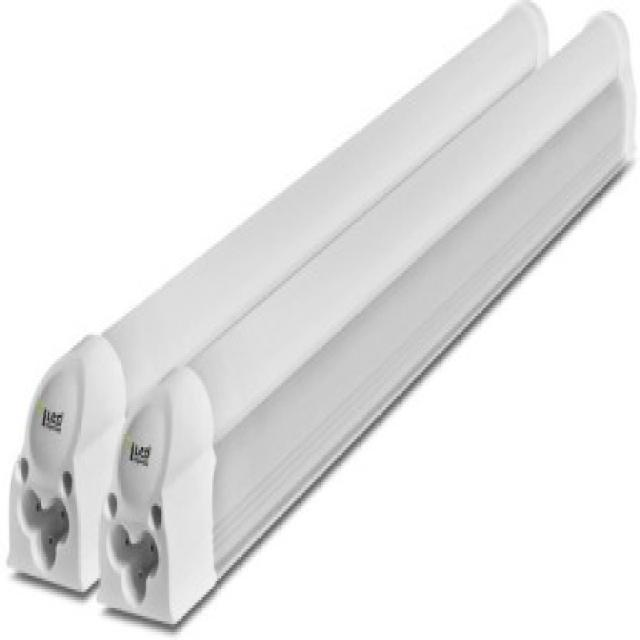tubelight_off: (0, 0, 557, 604)
